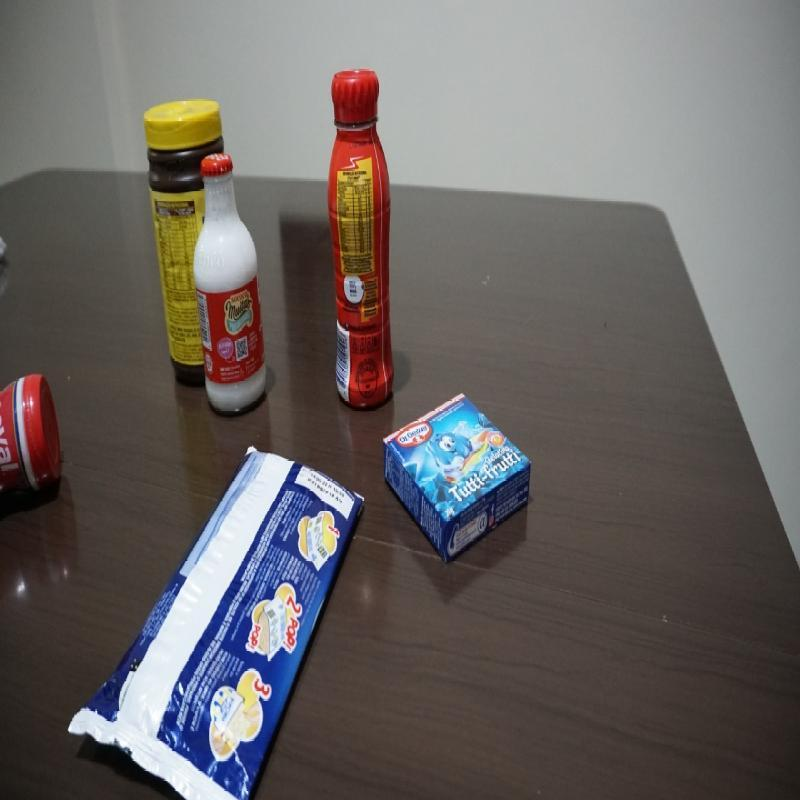Chocolate Milk: (327, 69, 397, 418)
Chocolate Powder: (142, 95, 222, 418)
Coconut Milk: (190, 152, 272, 427)
Gelatine: (382, 391, 535, 566)
Popcorn: (69, 444, 365, 794)
Yeast: (0, 370, 63, 518)
